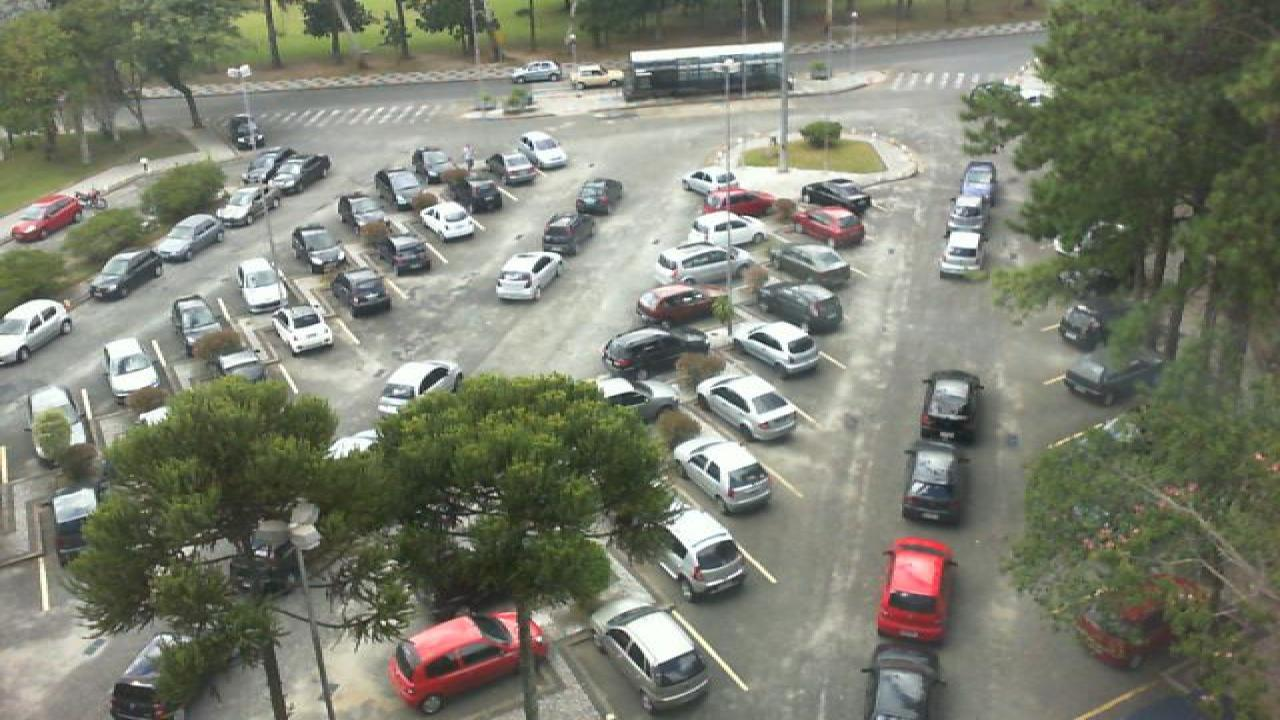Car: (386, 609, 552, 713), (588, 596, 710, 714), (654, 507, 748, 602), (668, 436, 774, 516), (876, 538, 956, 642), (692, 372, 802, 444), (106, 635, 198, 720), (860, 643, 946, 720), (1062, 347, 1164, 406), (900, 444, 970, 526), (730, 321, 824, 378), (374, 359, 462, 418), (0, 297, 72, 367), (750, 284, 846, 336), (600, 326, 696, 377), (918, 369, 980, 447), (26, 384, 86, 464), (654, 241, 744, 289), (88, 248, 166, 302), (100, 336, 162, 403), (762, 244, 854, 289), (636, 283, 720, 332), (592, 377, 678, 424), (8, 195, 86, 243), (152, 212, 224, 264), (790, 202, 868, 248), (496, 250, 564, 301), (274, 302, 334, 356), (170, 297, 224, 353), (240, 154, 306, 199), (690, 210, 768, 248), (798, 178, 874, 217), (936, 229, 990, 282), (332, 268, 390, 316), (236, 258, 288, 310), (292, 224, 344, 273), (214, 185, 272, 228), (418, 201, 478, 242), (702, 186, 778, 218), (1056, 304, 1106, 352), (378, 233, 432, 277), (542, 212, 594, 256), (278, 159, 332, 197), (680, 166, 744, 197), (570, 176, 622, 214), (518, 131, 570, 168), (338, 191, 382, 234), (946, 197, 994, 236), (462, 176, 508, 214), (954, 162, 996, 202), (492, 152, 538, 187), (374, 166, 414, 204), (412, 146, 452, 182), (570, 63, 624, 88), (510, 60, 564, 83), (228, 114, 262, 150)
